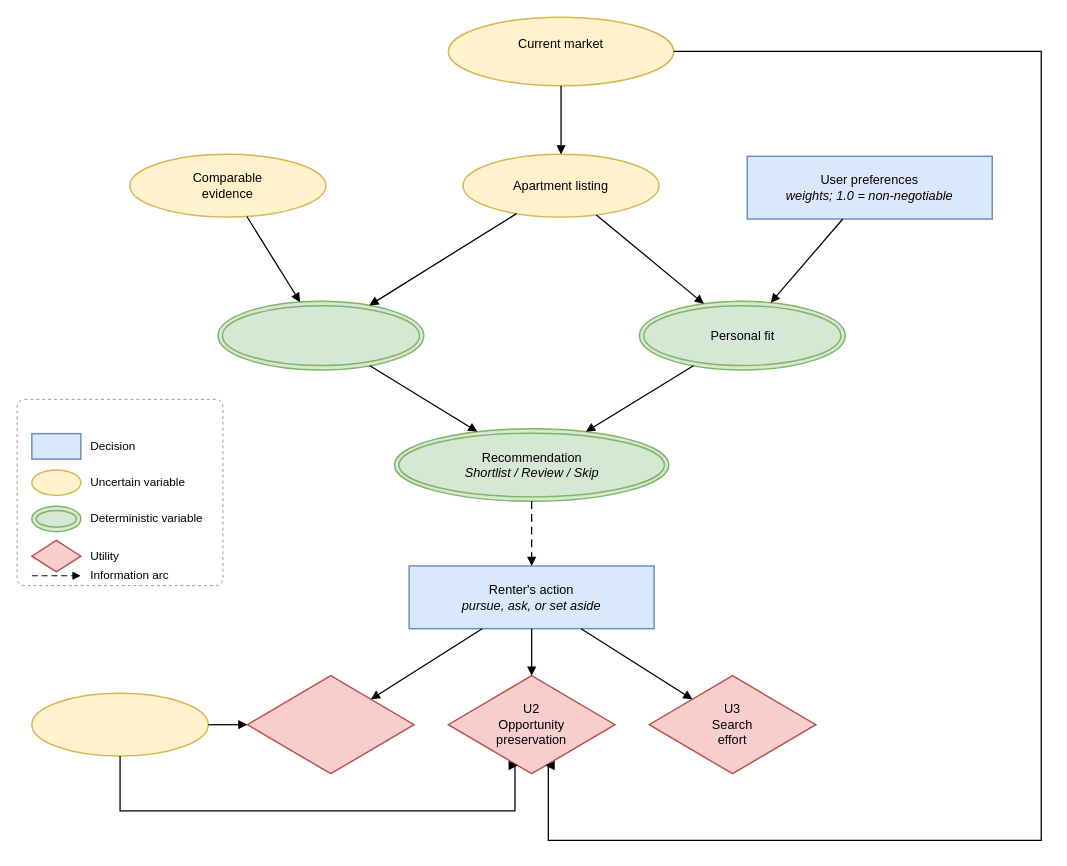
Image size: 1067x866. Some labels were removed from this diagram. The shapes that lost their labels are listed below. From the top down, each one's box as (x1, y1, x2, y2) in pixels, then its label:
(217, 300, 424, 370): Price position
(16, 398, 223, 586): Legend
(31, 692, 209, 756): Unobserved quality
(246, 675, 414, 774): U1 Financial protection
